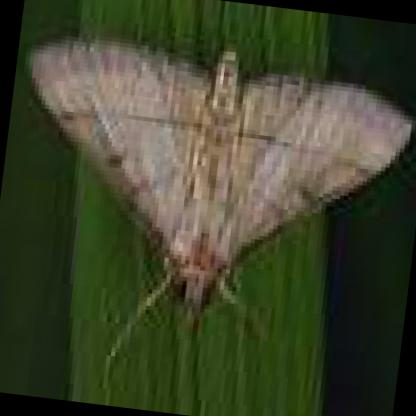Leaf Webber: (25, 41, 416, 320)
